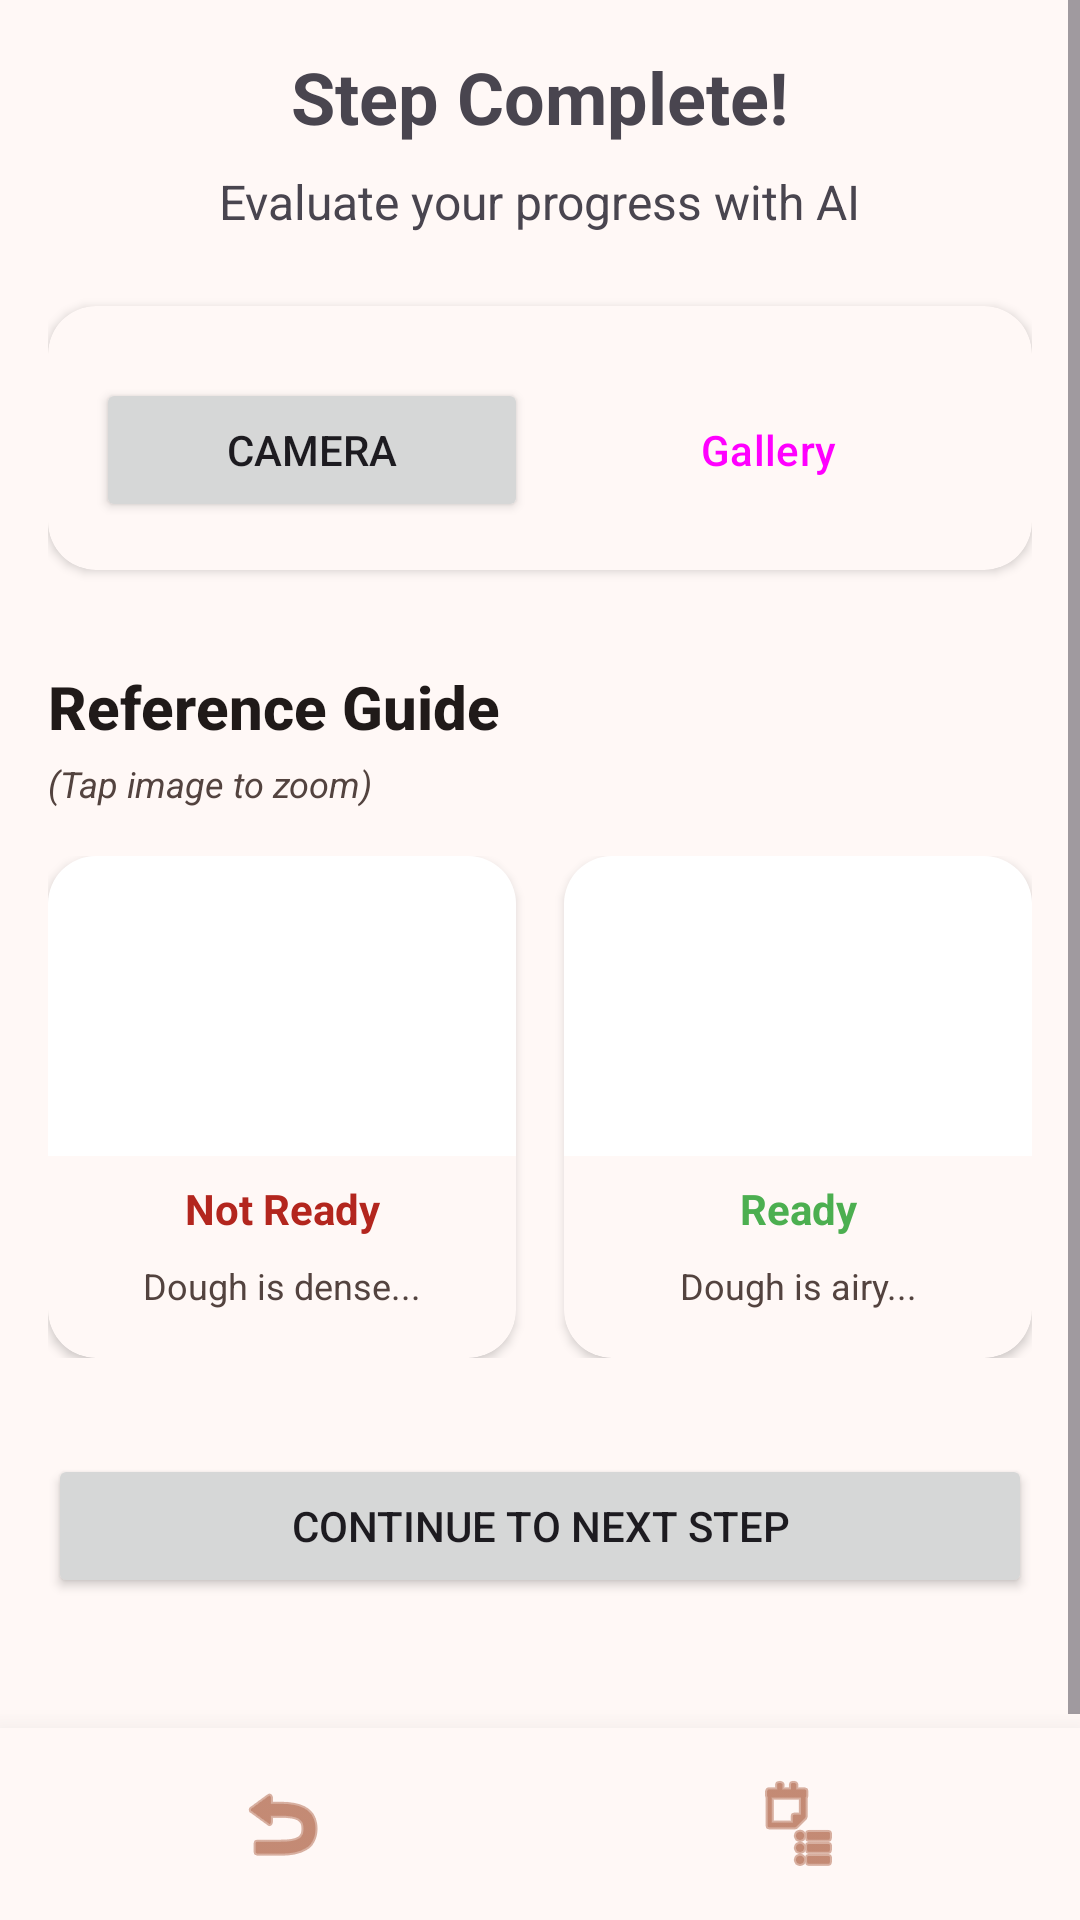

Screen size 1080 x 1920. Icon name, then its center in pixels as (x=x, y=y):
agenda: (x=798, y=1823)
revert: (x=283, y=1824)
